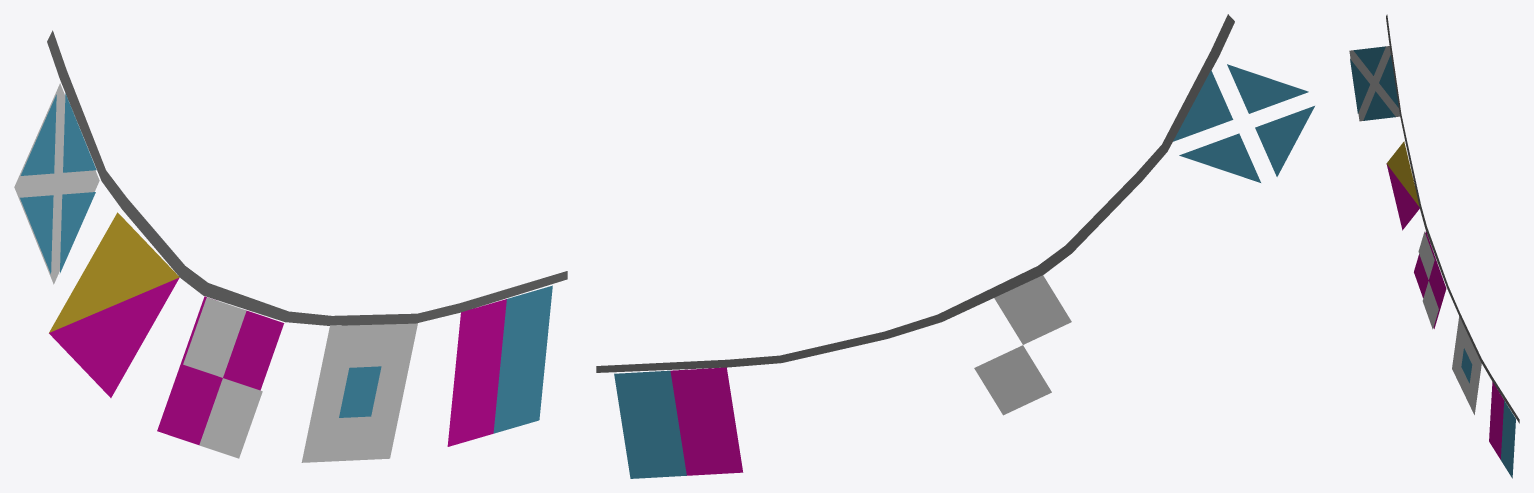
The model's file is MouseFlags.glb.
The picture shows the model from 3 angles, left to right: view 1: azimuth 30°, elevation 25°; view 2: azimuth 150°, elevation 25°; view 3: azimuth 270°, elevation 25°; orthographic projection. The views are drawn at different scales.
Visible parts, largest first — view 1: MouseFlags; view 2: MouseFlags; view 3: MouseFlags.
Part boxes in pixels (x1,y1,x2,y2): MouseFlags: (14, 30, 567, 462); MouseFlags: (596, 14, 1314, 478); MouseFlags: (1349, 14, 1519, 478).
Size of the model in its own units: 2.87 by 2.39 by 1.17.
